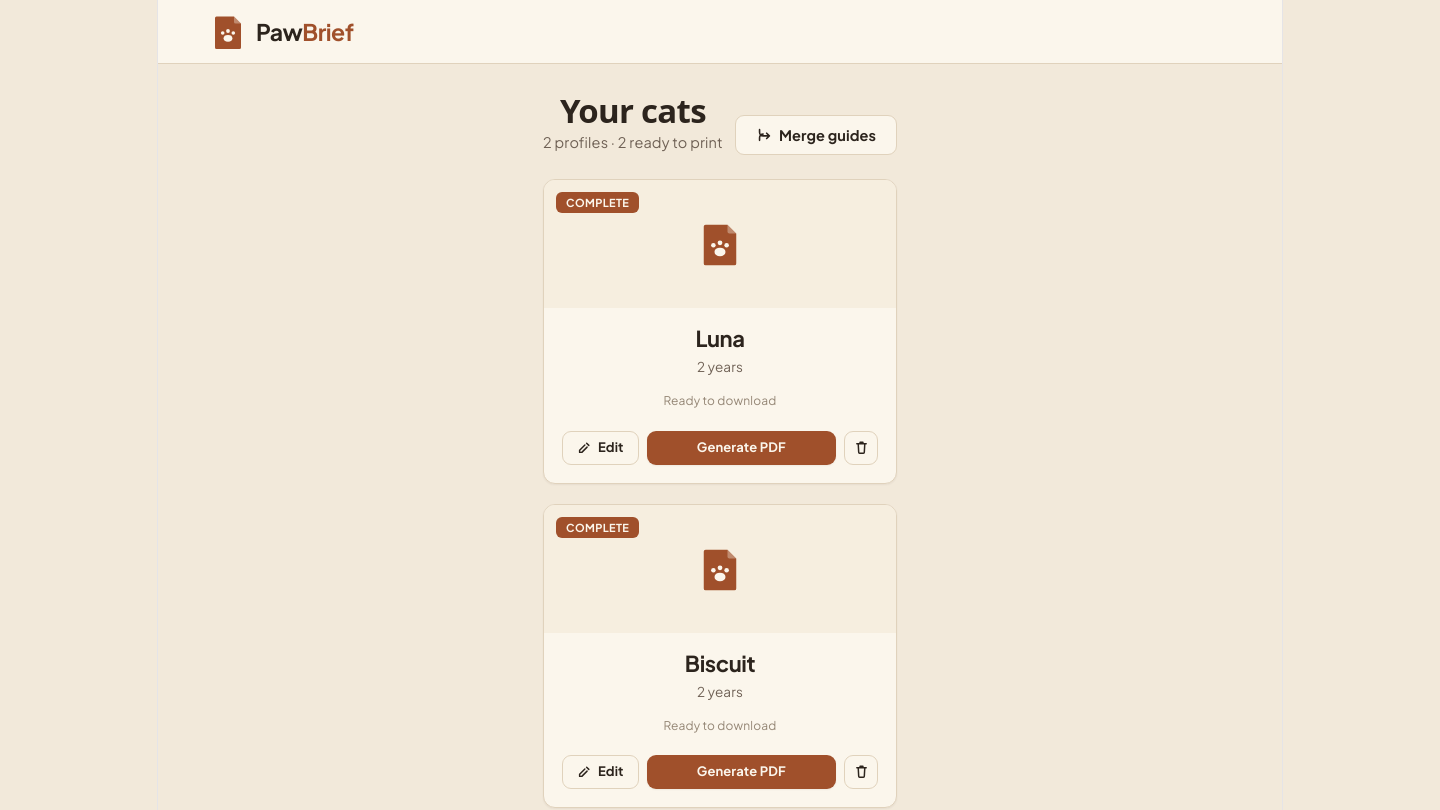
DashboardPage merge-select action bar › shows a live selection count in the action bar during merge-select mode
Click the button "Merge guides" at (816, 135), box top-left (735, 115), bottom-right (897, 155)
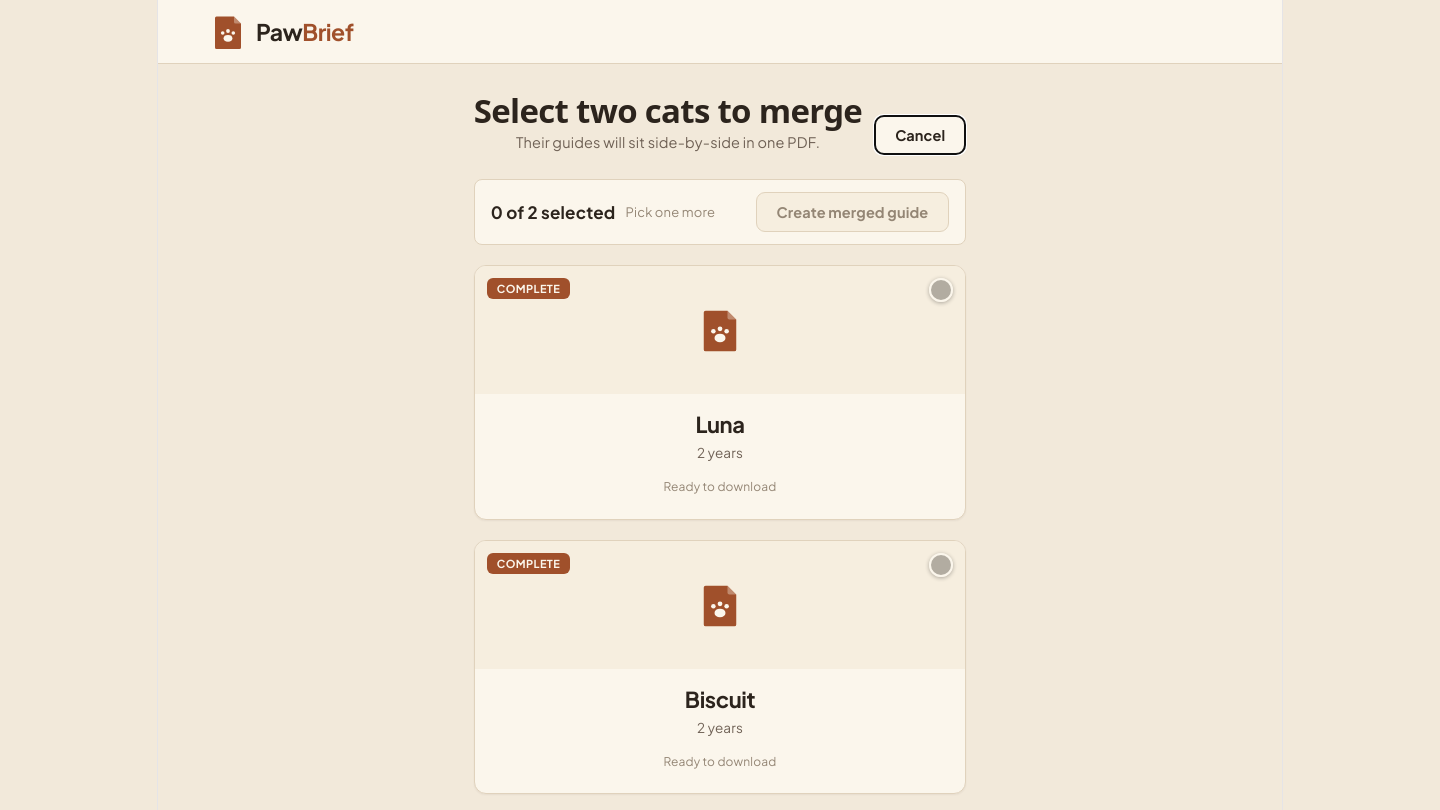
Click the checkbox named "Luna" at (941, 290), box top-left (929, 278), bottom-right (953, 302)
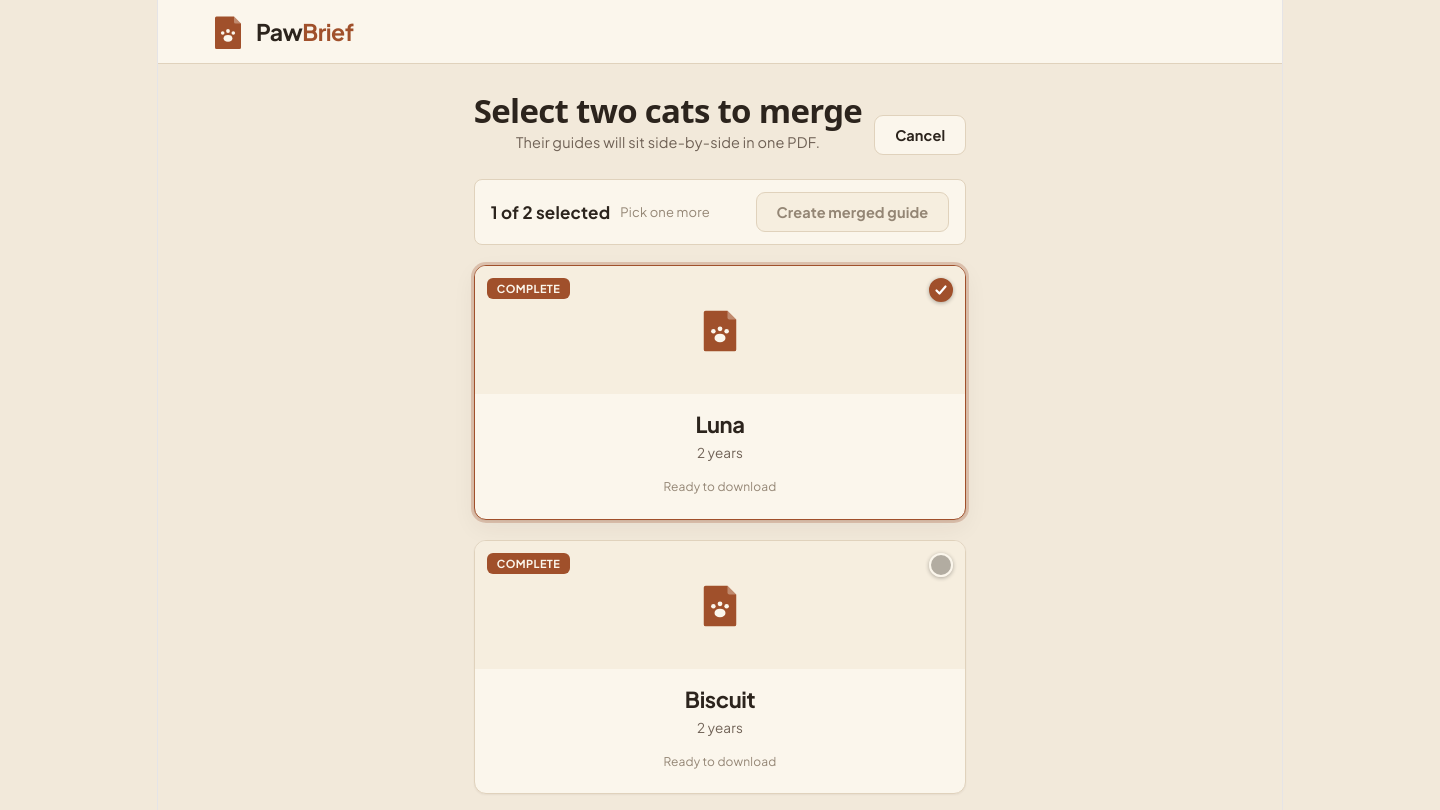
Expected: the text "1 of 2 selected" is shown, top-left (491, 199), bottom-right (610, 225)
